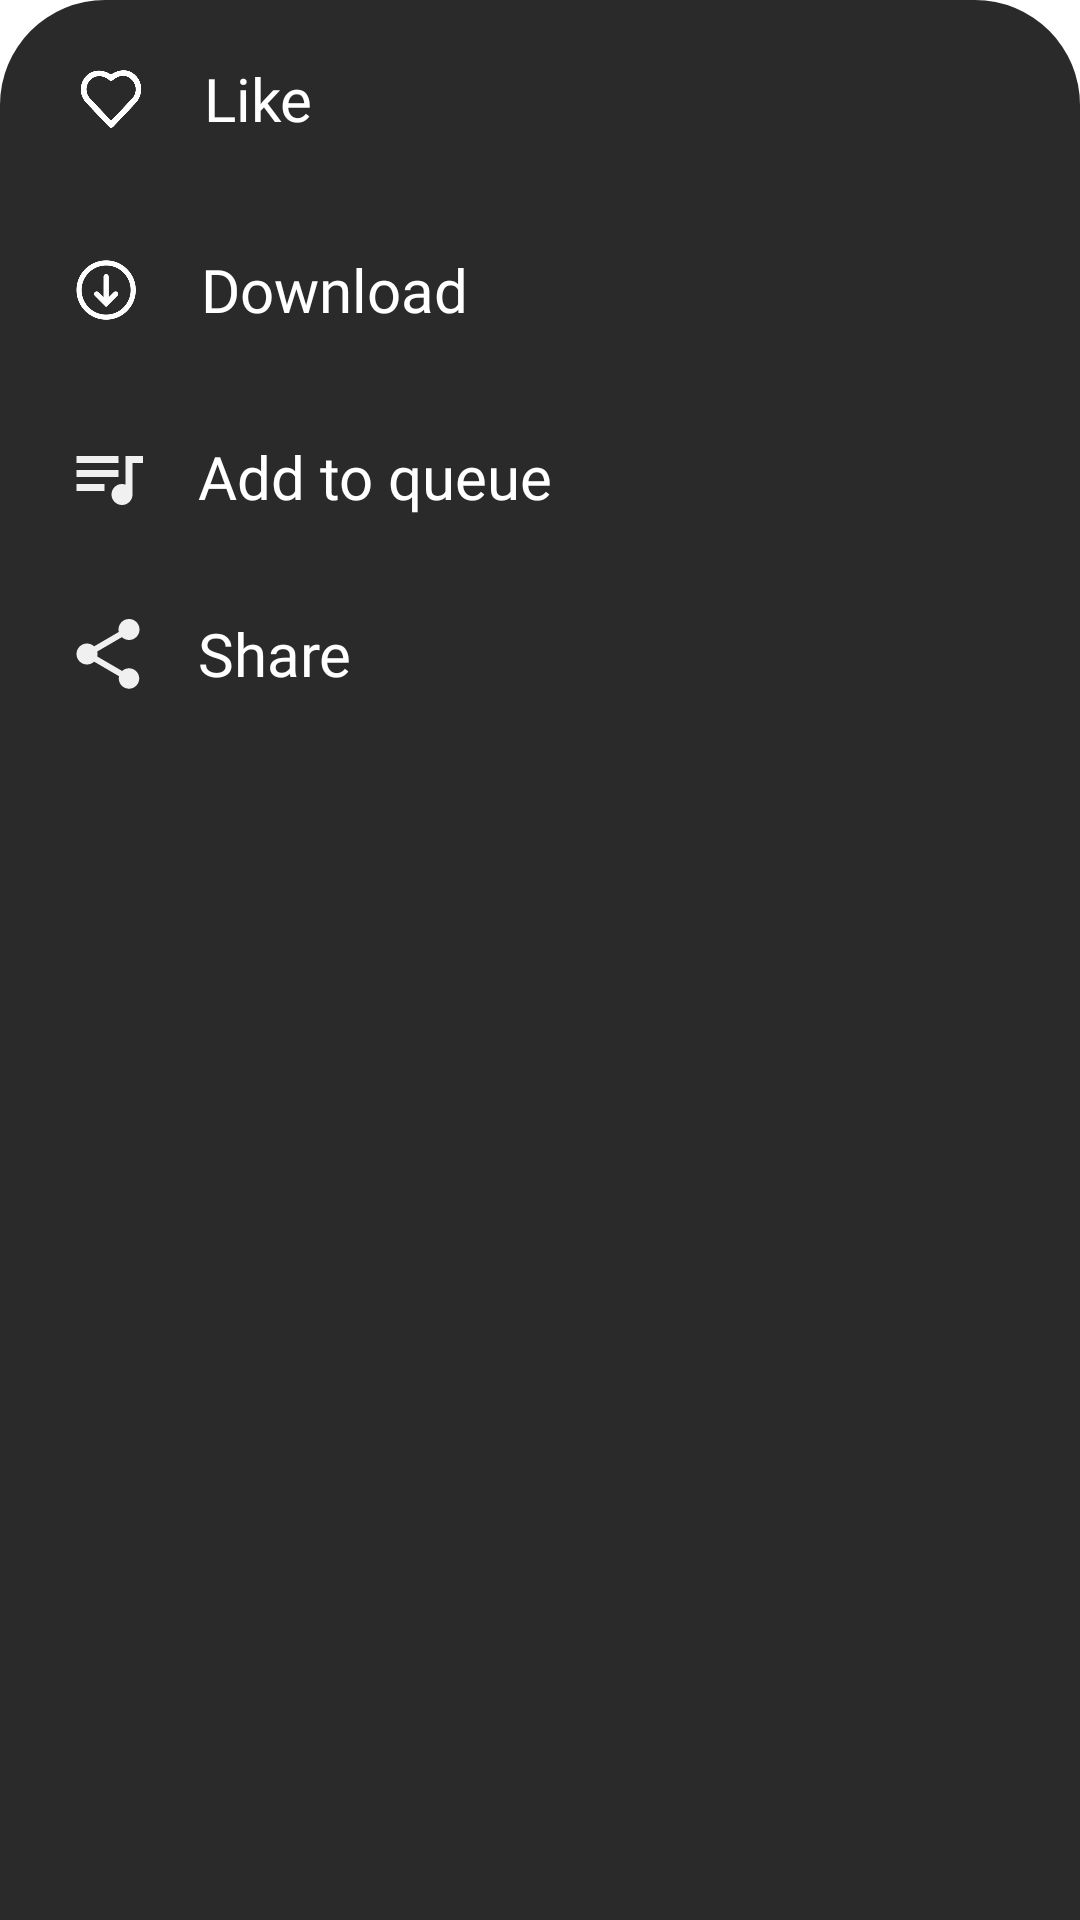

Point at icon controls on the screen. Image size 1080px x 1920px, points as (x,y).
queue music: (109,480)
